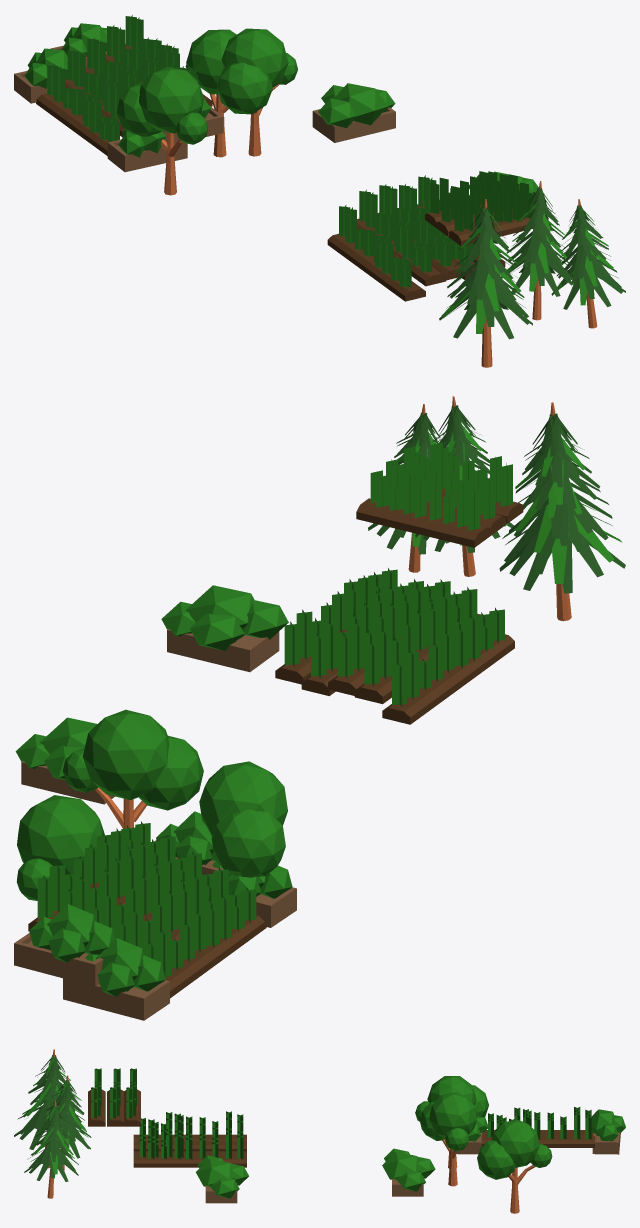
The model's file is solution_18_greenery.fbx.
3 views of the same model, one above another, from view 1: azimuth 30°, elevation 25°; view 2: azimuth 150°, elevation 25°; view 3: azimuth 270°, elevation 25° (orthographic). The views are drawn at different scales.
Visible parts, largest first — view 1: solution_18_greenery; view 2: solution_18_greenery; view 3: solution_18_greenery.
Boxes of the visible parts, left/top/right/bottom form: solution_18_greenery: left=14, top=15, right=625, bottom=367; solution_18_greenery: left=14, top=396, right=625, bottom=1020; solution_18_greenery: left=14, top=1049, right=625, bottom=1213.
Bounding box in the file's own units: 1717 × 1276 × 4885.
